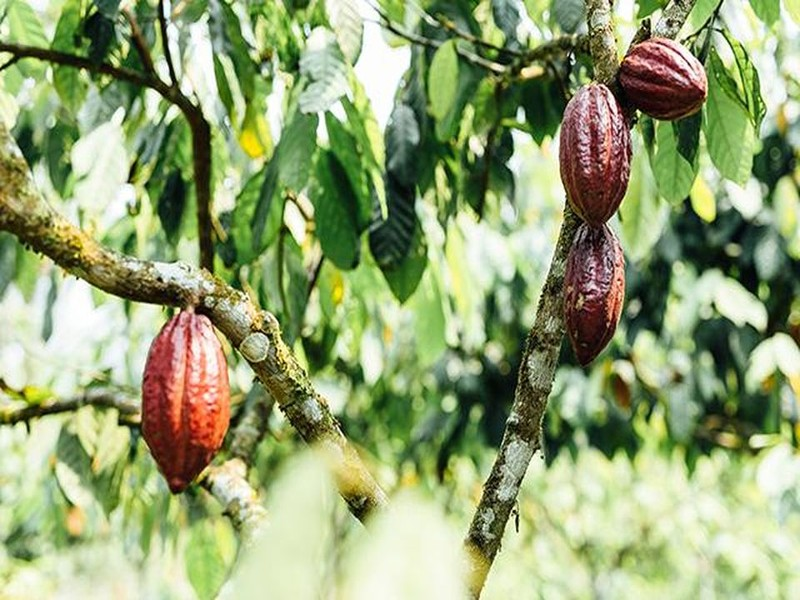Cacaopod: (136, 314, 229, 497), (559, 83, 631, 226)
